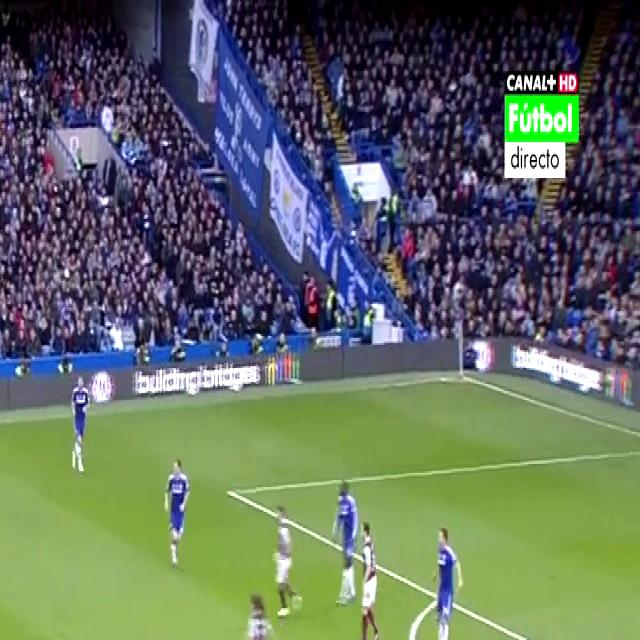soccer-player: (267, 492, 305, 629), (430, 508, 466, 640), (158, 445, 192, 574), (328, 468, 360, 602), (356, 530, 387, 640), (63, 366, 91, 478), (231, 586, 286, 640), (592, 624, 633, 640)
